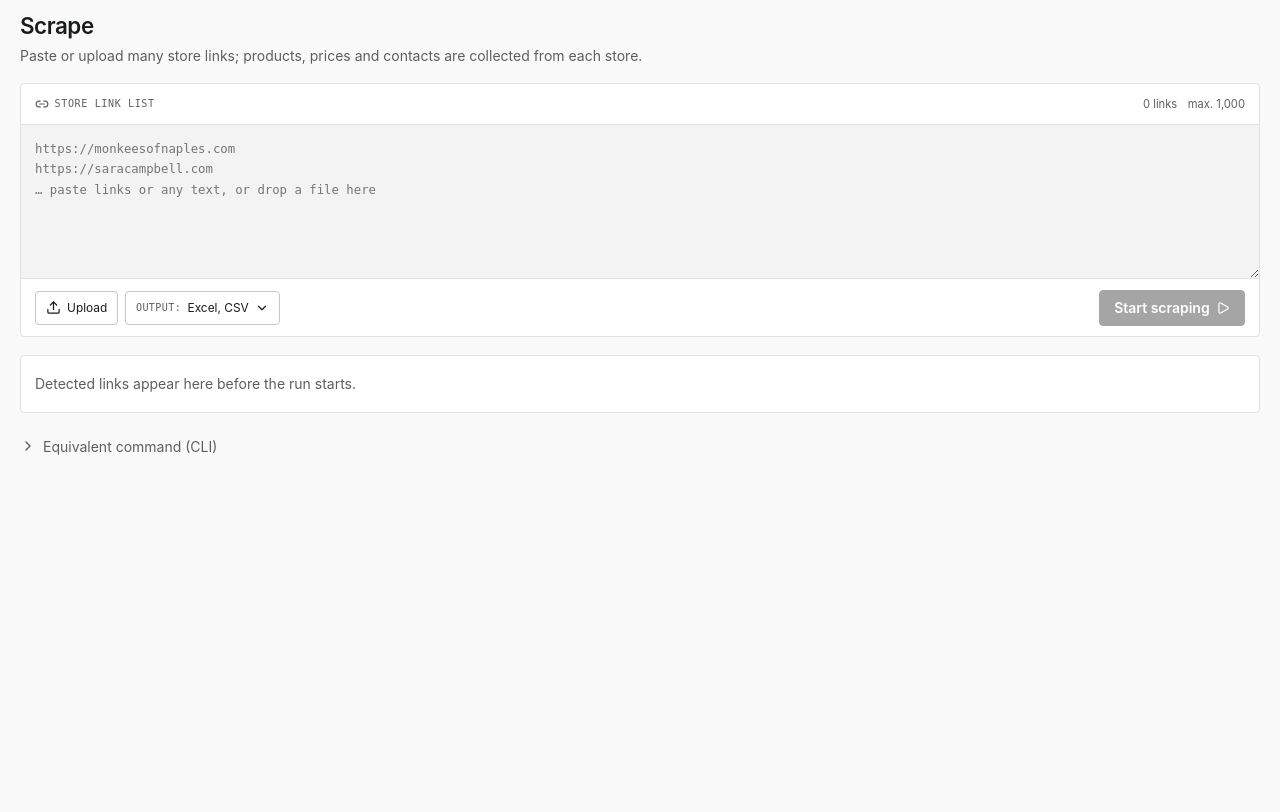
Test: Scrape › blocks lists over the limit and needs at least one format
Type "a.com" into the text box named "Store links".
click(640, 202); type("a.com")  # box [21,125,1259,279]
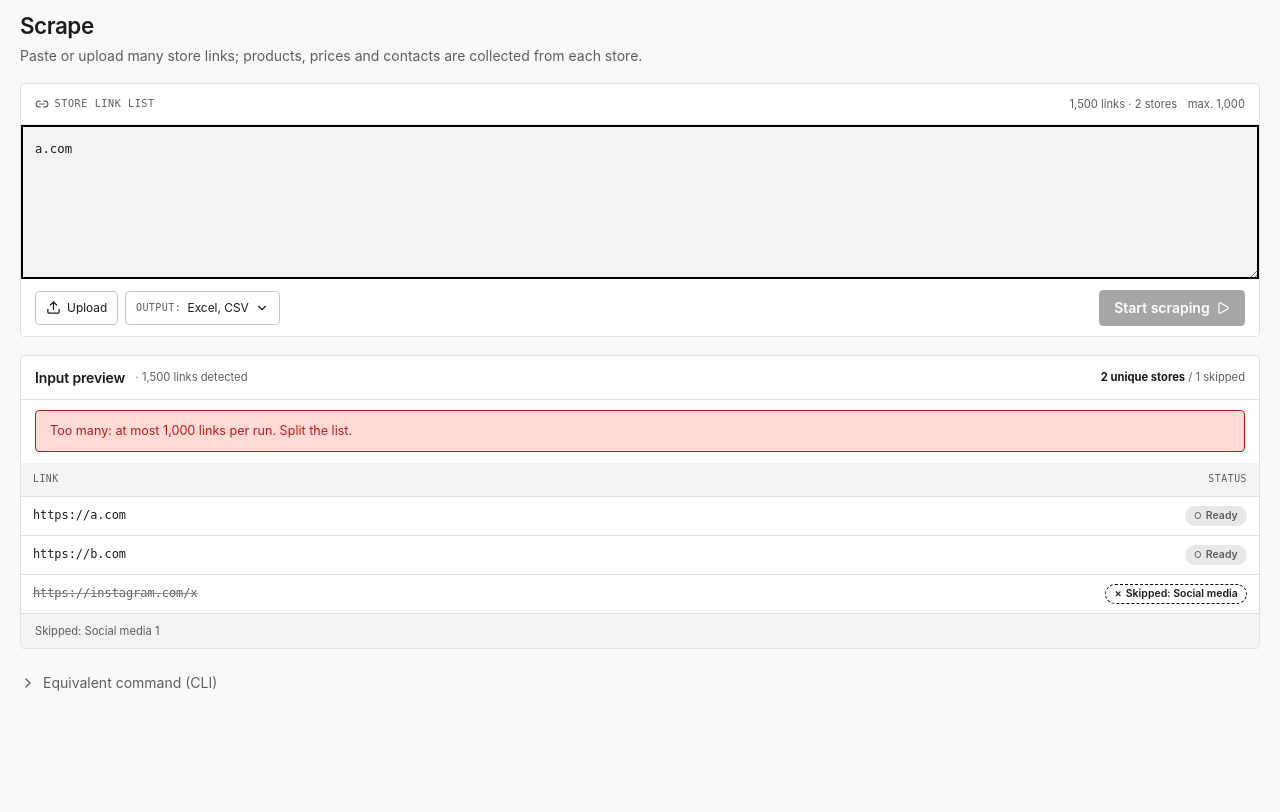
Expected: the button "Start scraping" is disabled, [1099,290,1245,326]
Expected: the text "Too many: at most 1,000 links per run. Split the list." is shown, [35,410,1245,452]
Click the button with aria-label "Output formats".
click(202, 308)  # box [125,291,280,325]
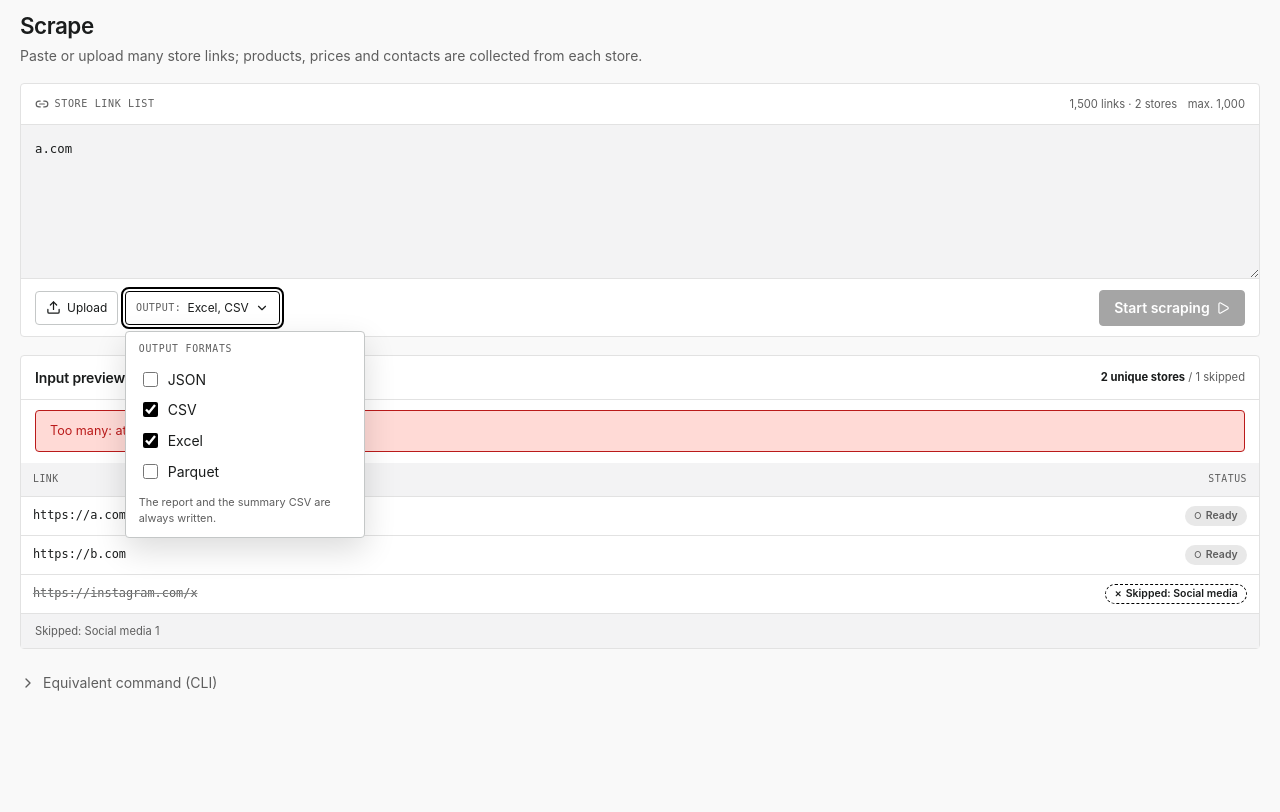
Click the checkbox labelled "Excel".
click(150, 441)  # box [143,433,158,448]
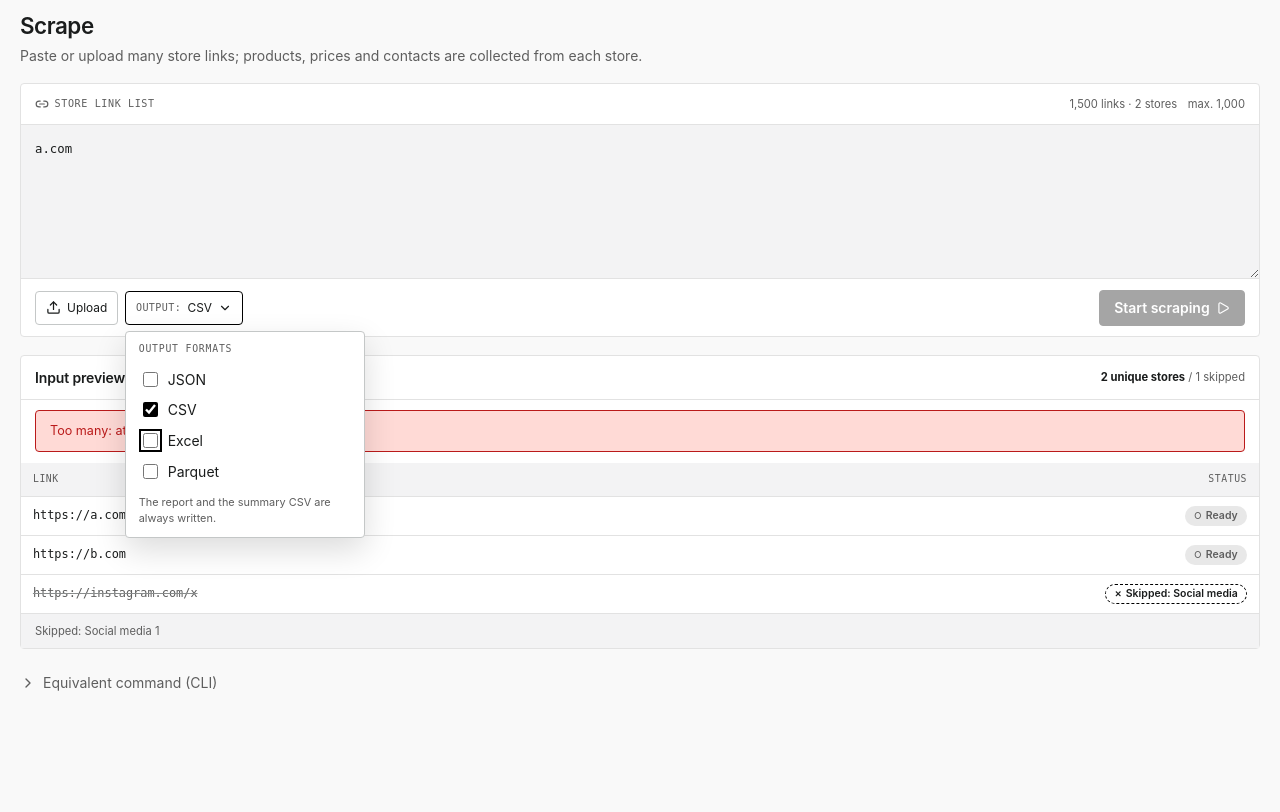
Click the checkbox labelled "CSV".
click(150, 410)  # box [143,402,158,418]
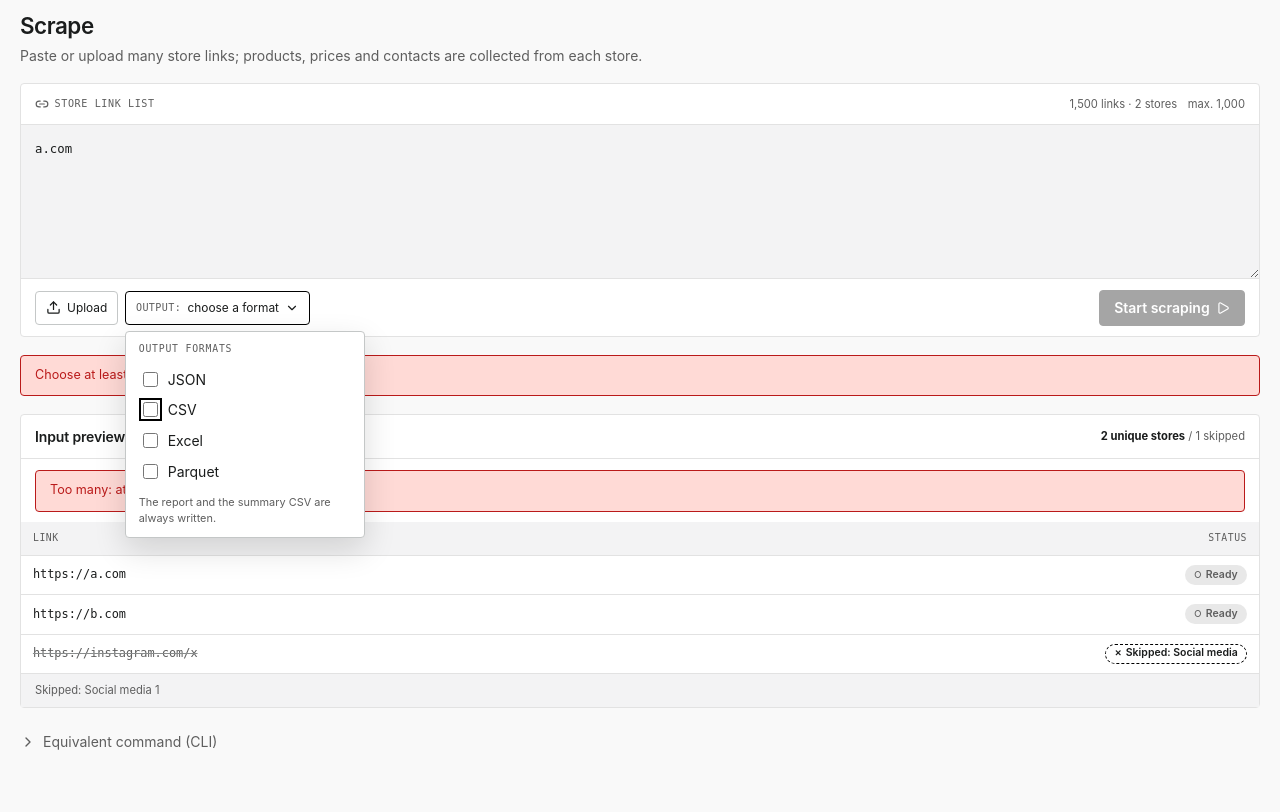
Expected: the text "Choose at least one output format." is shown, [20,355,1260,396]
